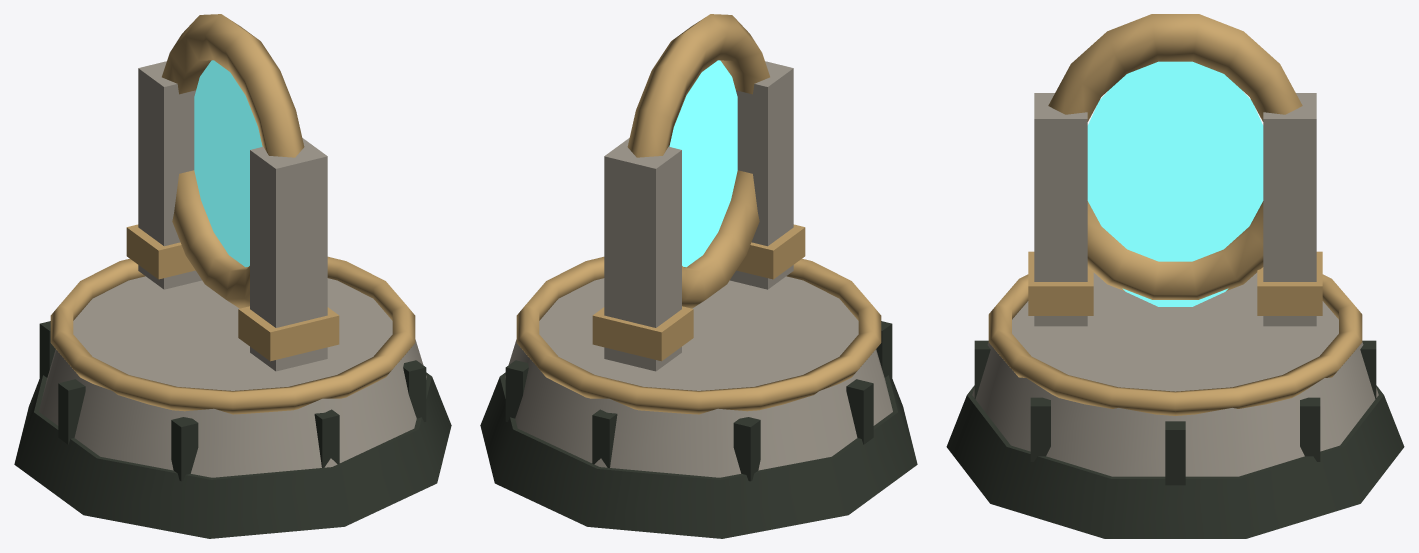
Rendered from tower_portal_portalReturn.glb.
3 views of the same model, side by side, from view 1: azimuth 30°, elevation 25°; view 2: azimuth 150°, elevation 25°; view 3: azimuth 270°, elevation 25° (orthographic). The views are drawn at different scales.
Parts seen in each view (by area): view 1: stone_1, foot_0, rim_2, arch_pillar_11, arch_15, portal_surface_16, arch_pillar_13, band_12, band_14, mortar_6, mortar_7, mortar_5 (+2 smaller); view 2: stone_1, foot_0, rim_2, arch_pillar_13, arch_15, portal_surface_16, arch_pillar_11, band_14, band_12, mortar_8, mortar_7, mortar_9 (+2 smaller); view 3: stone_1, portal_surface_16, foot_0, arch_15, rim_2, arch_pillar_11, arch_pillar_13, band_12, band_14, mortar_3, mortar_4, mortar_10 (+2 smaller).
Boxes of the visible parts, x1,y1,x2,y2 form: stone_1: [39, 276, 426, 477]; foot_0: [14, 372, 451, 538]; rim_2: [50, 256, 415, 414]; arch_pillar_11: [250, 138, 327, 371]; arch_15: [162, 14, 304, 308]; portal_surface_16: [194, 60, 262, 267]; arch_pillar_13: [138, 61, 201, 289]; band_12: [238, 306, 339, 361]; band_14: [126, 224, 195, 279]; mortar_6: [171, 417, 198, 481]; mortar_7: [58, 379, 85, 444]; mortar_5: [314, 409, 339, 467]; stone_1: [505, 276, 892, 477]; foot_0: [480, 372, 917, 538]; rim_2: [516, 256, 881, 414]; arch_pillar_13: [604, 138, 681, 371]; arch_15: [627, 14, 769, 308]; portal_surface_16: [669, 60, 737, 267]; arch_pillar_11: [730, 61, 793, 289]; band_14: [592, 306, 693, 361]; band_12: [736, 224, 805, 279]; mortar_8: [733, 417, 760, 481]; mortar_7: [846, 379, 873, 444]; mortar_9: [592, 409, 617, 467]; stone_1: [972, 272, 1378, 476]; portal_surface_16: [1087, 61, 1263, 306]; foot_0: [946, 385, 1404, 538]; arch_15: [1048, 14, 1302, 299]; rim_2: [988, 274, 1362, 415]; arch_pillar_11: [1034, 93, 1087, 326]; arch_pillar_13: [1263, 93, 1316, 326]; band_12: [1028, 251, 1093, 315]; band_14: [1257, 251, 1322, 315]; mortar_3: [1165, 421, 1185, 485]; mortar_4: [1030, 397, 1050, 461]; mortar_10: [1300, 397, 1320, 461].
Size of the model in its own units: 0.5326 by 0.5841 by 0.56.
